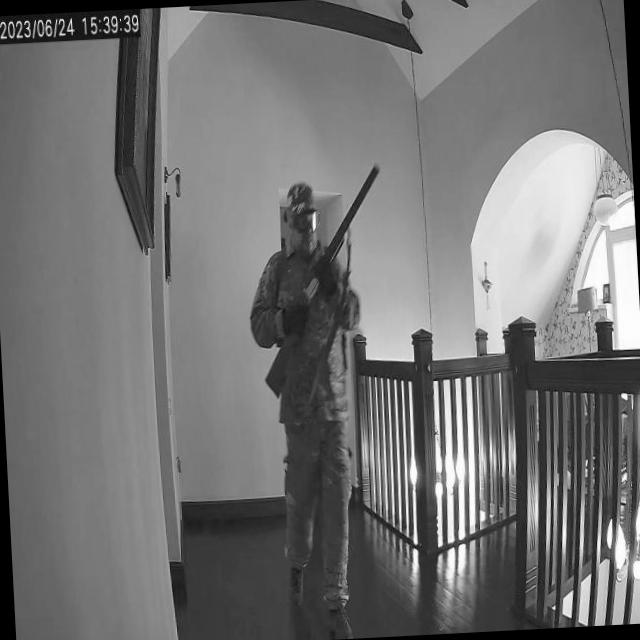gun: (256, 159, 392, 388)
person with a gun: (246, 159, 410, 635)
